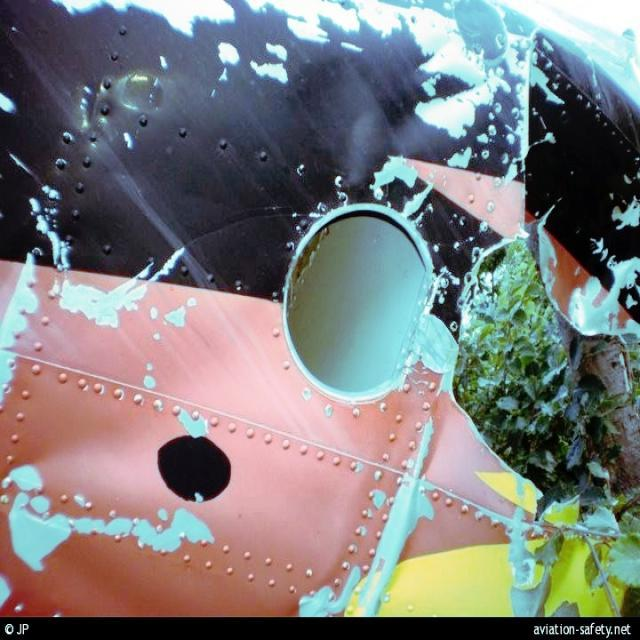dent: (300, 62, 450, 182), (6, 414, 151, 499)
